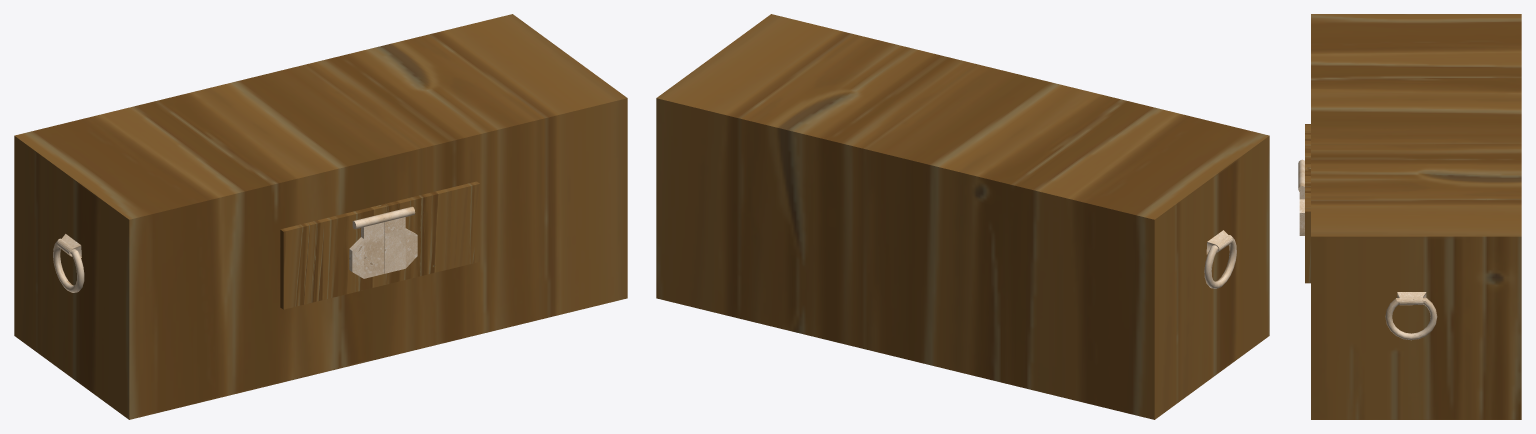
The picture shows the model from 3 angles, left to right: view 1: azimuth 30°, elevation 25°; view 2: azimuth 150°, elevation 25°; view 3: azimuth 270°, elevation 25°; orthographic projection. The views are drawn at different scales.
Parts seen in each view (by area): view 1: pCube1, pCube2, pPlane1, pasted__polySurface1, pCylinder1; view 2: pCube1, pasted__polySurface1; view 3: pCube1, pCube2, pasted__polySurface1, pasted__polySurface2, pPlane1, pCylinder1.
Boxes of the visible parts, x1=… form: pCube1: x1=14, y1=14, x2=627, y2=419; pCube2: x1=280, y1=181, x2=479, y2=309; pPlane1: x1=349, y1=217, x2=417, y2=278; pasted__polySurface1: x1=53, y1=238, x2=84, y2=292; pCylinder1: x1=352, y1=206, x2=415, y2=229; pCube1: x1=656, y1=14, x2=1269, y2=419; pasted__polySurface1: x1=1204, y1=235, x2=1236, y2=288; pCube1: x1=1311, y1=14, x2=1521, y2=419; pCube2: x1=1305, y1=124, x2=1310, y2=283; pasted__polySurface1: x1=1385, y1=297, x2=1437, y2=340; pasted__polySurface2: x1=1397, y1=292, x2=1426, y2=305; pPlane1: x1=1299, y1=192, x2=1304, y2=235; pCylinder1: x1=1298, y1=159, x2=1304, y2=193.
Bounding box in the file's own units: 4.03 × 1.47 × 1.63.
